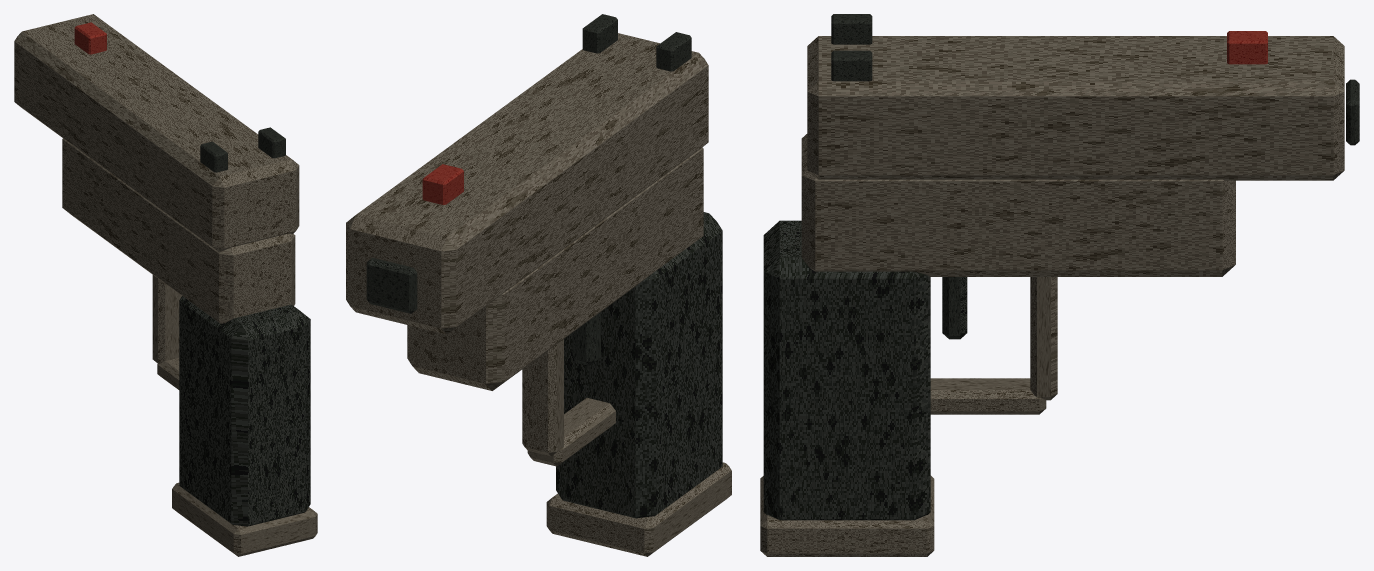
Rendered from pistol.glb.
3 views of the same model, side by side, from view 1: azimuth 30°, elevation 25°; view 2: azimuth 150°, elevation 25°; view 3: azimuth 270°, elevation 25° (orthographic). The views are drawn at different scales.
Parts seen in each view (by area): view 1: Slide, Grip, Frame, Magazine, Trigger_guard_front, Front_sight, Rear_sight_L, Rear_sight_R, Trigger_guard_bottom; view 2: Slide, Grip, Frame, Magazine, Trigger_guard_front, Trigger_guard_bottom, Muzzle, Front_sight, Trigger, Rear_sight_L, Rear_sight_R; view 3: Slide, Grip, Frame, Magazine, Trigger_guard_bottom, Trigger_guard_front, Trigger, Front_sight, Rear_sight_R, Rear_sight_L, Muzzle.
Boxes of the visible parts, x1=… form: Slide: x1=14, y1=14, x2=299, y2=251; Grip: x1=179, y1=296, x2=310, y2=526; Frame: x1=62, y1=138, x2=295, y2=323; Magazine: x1=172, y1=482, x2=317, y2=556; Trigger_guard_front: x1=152, y1=275, x2=181, y2=363; Front_sight: x1=74, y1=22, x2=106, y2=54; Rear_sight_L: x1=200, y1=141, x2=227, y2=172; Rear_sight_R: x1=258, y1=127, x2=285, y2=158; Trigger_guard_bottom: x1=157, y1=357, x2=179, y2=389; Slide: x1=346, y1=33, x2=708, y2=334; Grip: x1=556, y1=212, x2=722, y2=518; Frame: x1=407, y1=147, x2=703, y2=390; Magazine: x1=546, y1=462, x2=731, y2=556; Trigger_guard_front: x1=522, y1=339, x2=563, y2=456; Trigger_guard_bottom: x1=527, y1=397, x2=615, y2=466; Muzzle: x1=366, y1=257, x2=417, y2=313; Front_sight: x1=422, y1=164, x2=463, y2=204; Trigger: x1=572, y1=312, x2=600, y2=365; Rear_sight_L: x1=656, y1=32, x2=691, y2=71; Rear_sight_R: x1=582, y1=14, x2=617, y2=53; Slide: x1=807, y1=36, x2=1344, y2=180; Grip: x1=763, y1=220, x2=930, y2=520; Frame: x1=801, y1=134, x2=1235, y2=276; Magazine: x1=760, y1=475, x2=934, y2=556; Trigger_guard_bottom: x1=930, y1=378, x2=1046, y2=414; Trigger_guard_front: x1=1030, y1=277, x2=1057, y2=400; Trigger: x1=942, y1=277, x2=967, y2=339; Front_sight: x1=1227, y1=31, x2=1267, y2=64; Rear_sight_R: x1=831, y1=50, x2=872, y2=81; Rear_sight_L: x1=831, y1=14, x2=872, y2=44; Muzzle: x1=1346, y1=79, x2=1359, y2=145.
Bounding box in the file's own units: 0.057 × 0.24 × 0.262.
Materials: 3 (3 with a texture image).
